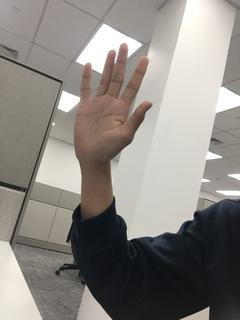hand: (72, 41, 154, 164)
